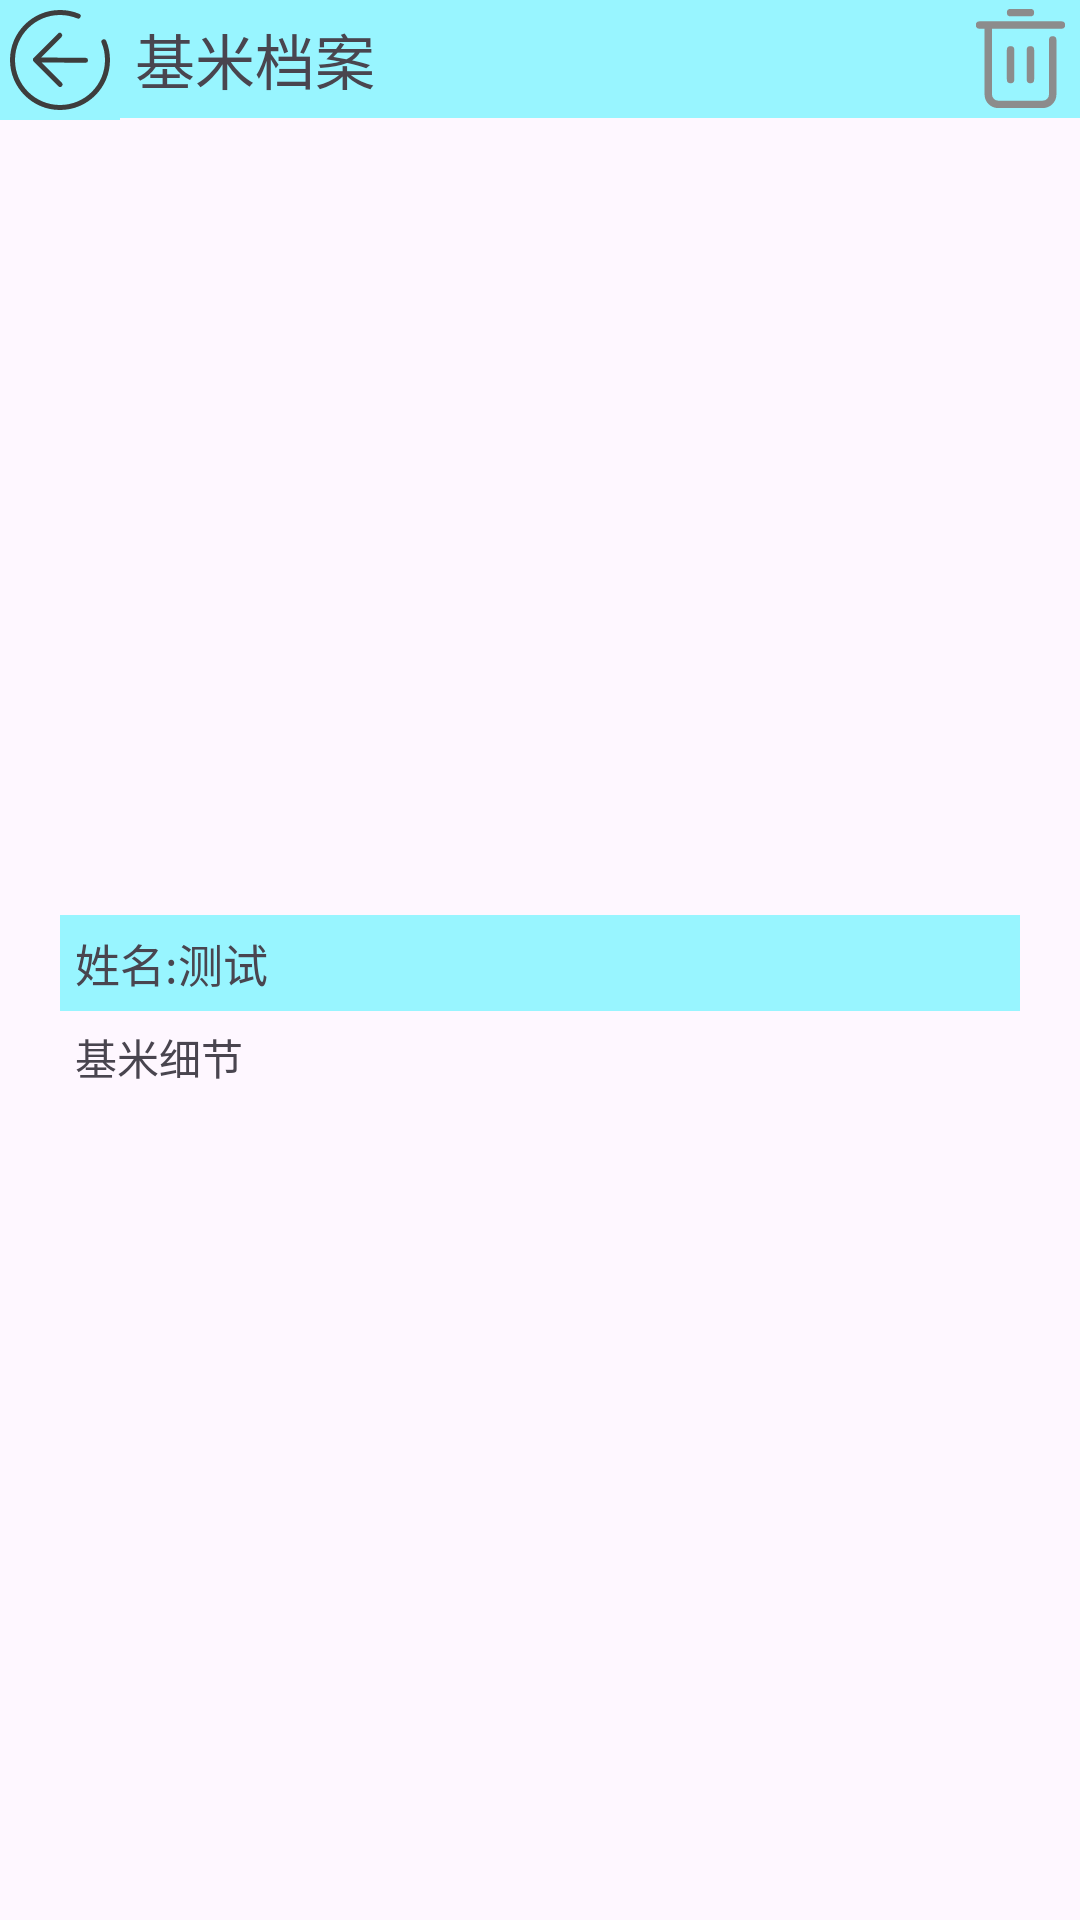

Icon bounding boxes for this 1080×1920 phone screenshot, format (x1, y1, x2, y2):
back: (10, 10, 110, 110)
delete iv: (976, 9, 1065, 108)
